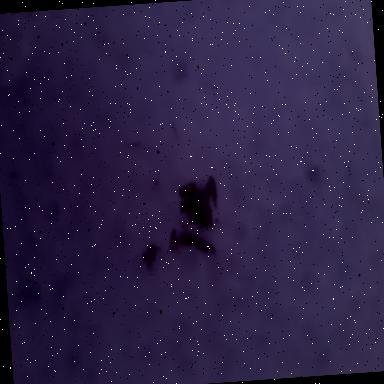pbw: (207, 174, 218, 207), (178, 180, 197, 198), (195, 235, 215, 252), (179, 198, 197, 213), (179, 231, 197, 245), (169, 228, 177, 250)
